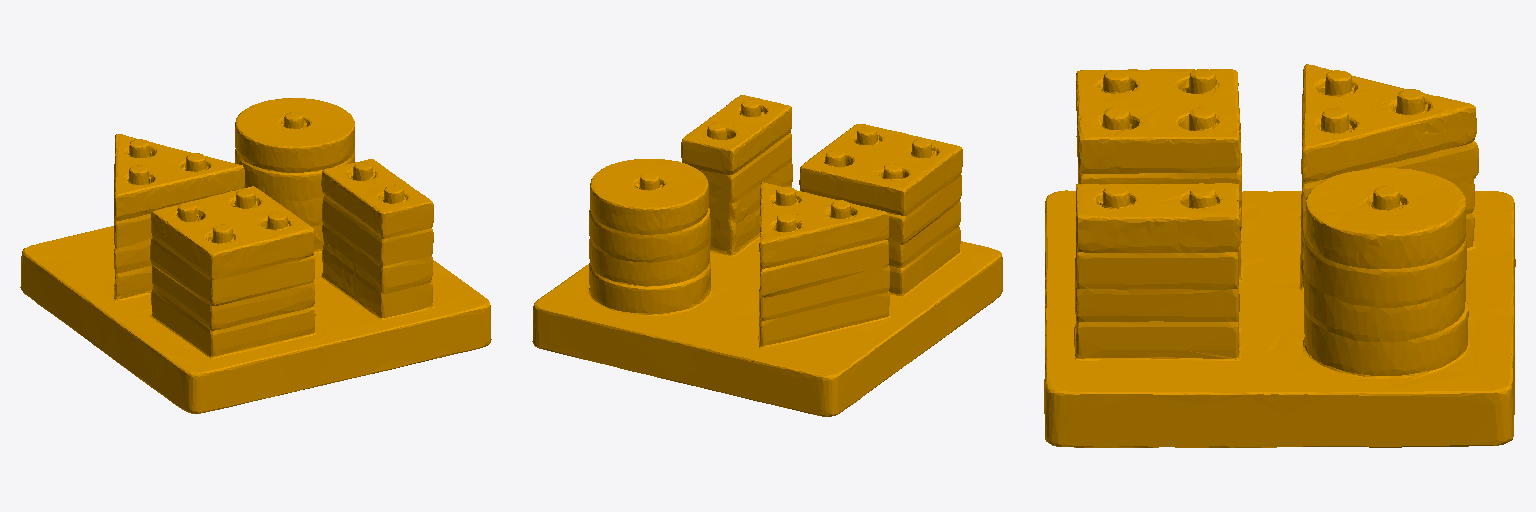
The robot description file, URDF, robot "109zjaf9":
<?xml version='1.0'?>

<robot name="109zjaf9">
    <static>false</static>
    <link name="link">
        <inertial>
            <mass value="0.08062304229467229"/>
            <inertia ixx="0.00010884023891486742" ixy="-8.24551764695806e-06" ixz="1.7269385293544446e-06"
                     iyy="0.00011043539984695703" iyz="2.109551602095e-06" izz="0.0001750221276478269"/>
        </inertial>
        <collision name="collision">
            <geometry>
                <mesh filename="package://miscnet/train/109zjaf9/collision_model_vhacd.obj"/>
            </geometry>
        </collision>
        <visual name="visual">
            <geometry>
                <mesh filename="package://miscnet/train/109zjaf9/visual_model.obj"/>
            </geometry>
        </visual>
    </link>
</robot>

--- Facts derived from the render (not from the file) ---
Views: 3 orthographic renders of the robot side by side, from view 1: azimuth 30°, elevation 25°; view 2: azimuth 150°, elevation 25°; view 3: azimuth 270°, elevation 25°.
Model 109zjaf9 with 1 links and 0 joints (none), rooted at link, posed all joints at 0.
Links seen in each view (by area): view 1: link; view 2: link; view 3: link.
Boxes of the visible links, left/top/right/bottom form: link: left=20, top=98, right=491, bottom=413; link: left=532, top=95, right=1002, bottom=416; link: left=1044, top=64, right=1515, bottom=447.
Size in the robot's own frame: 0.1223 by 0.1216 by 0.0608 metres.
1 mesh visuals loaded from 1 distinct referenced files (1 OBJ).
